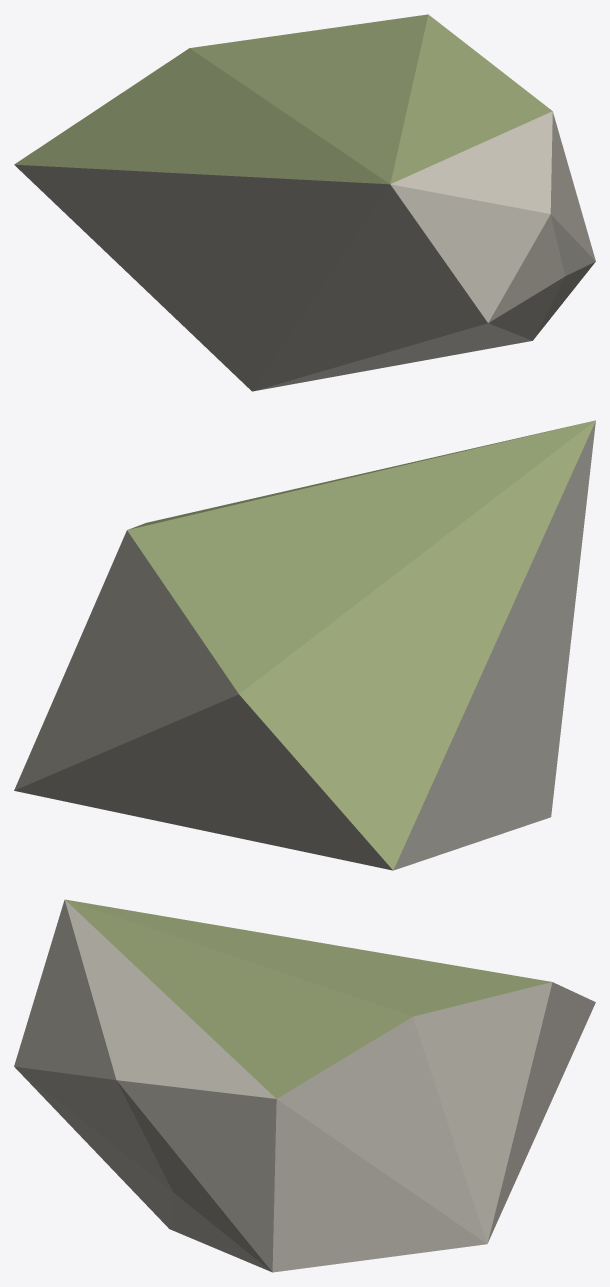
File: Boulder_0.glb
3 views of the same model, one above another, from view 1: azimuth 30°, elevation 25°; view 2: azimuth 150°, elevation 25°; view 3: azimuth 270°, elevation 25° (orthographic). The views are drawn at different scales.
Visible parts, largest first — view 1: Boulder_0; view 2: Boulder_0; view 3: Boulder_0.
Boxes of the visible parts, box(x1,y1,x2,y2) form: Boulder_0: box(14, 14, 595, 391); Boulder_0: box(14, 420, 595, 870); Boulder_0: box(14, 899, 595, 1272).
Bounding box in the file's own units: 0.6574 × 0.3926 × 0.8229.
